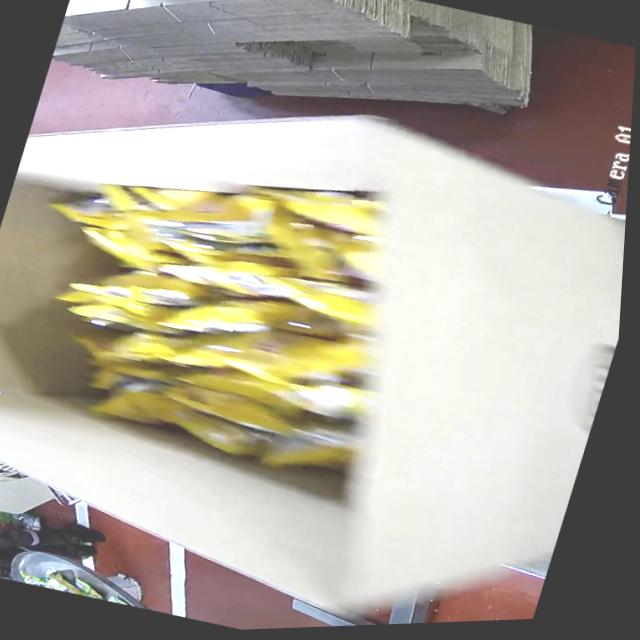SALTED: (10, 116, 420, 493)
